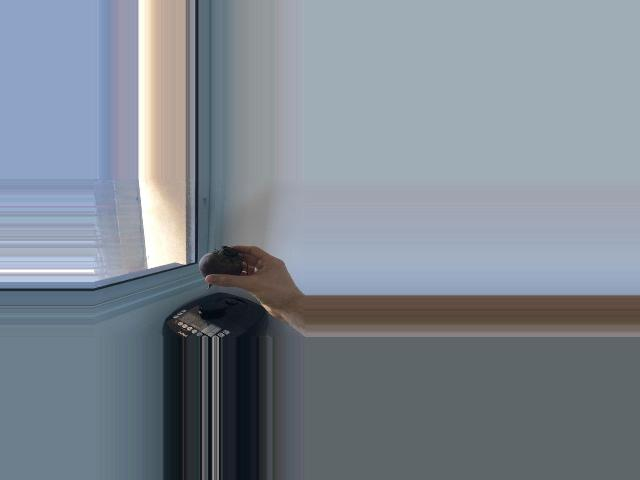beet: (198, 246, 247, 289)
